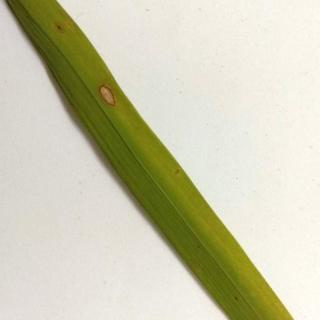Blast: (84, 67, 136, 134), (37, 1, 89, 64)
